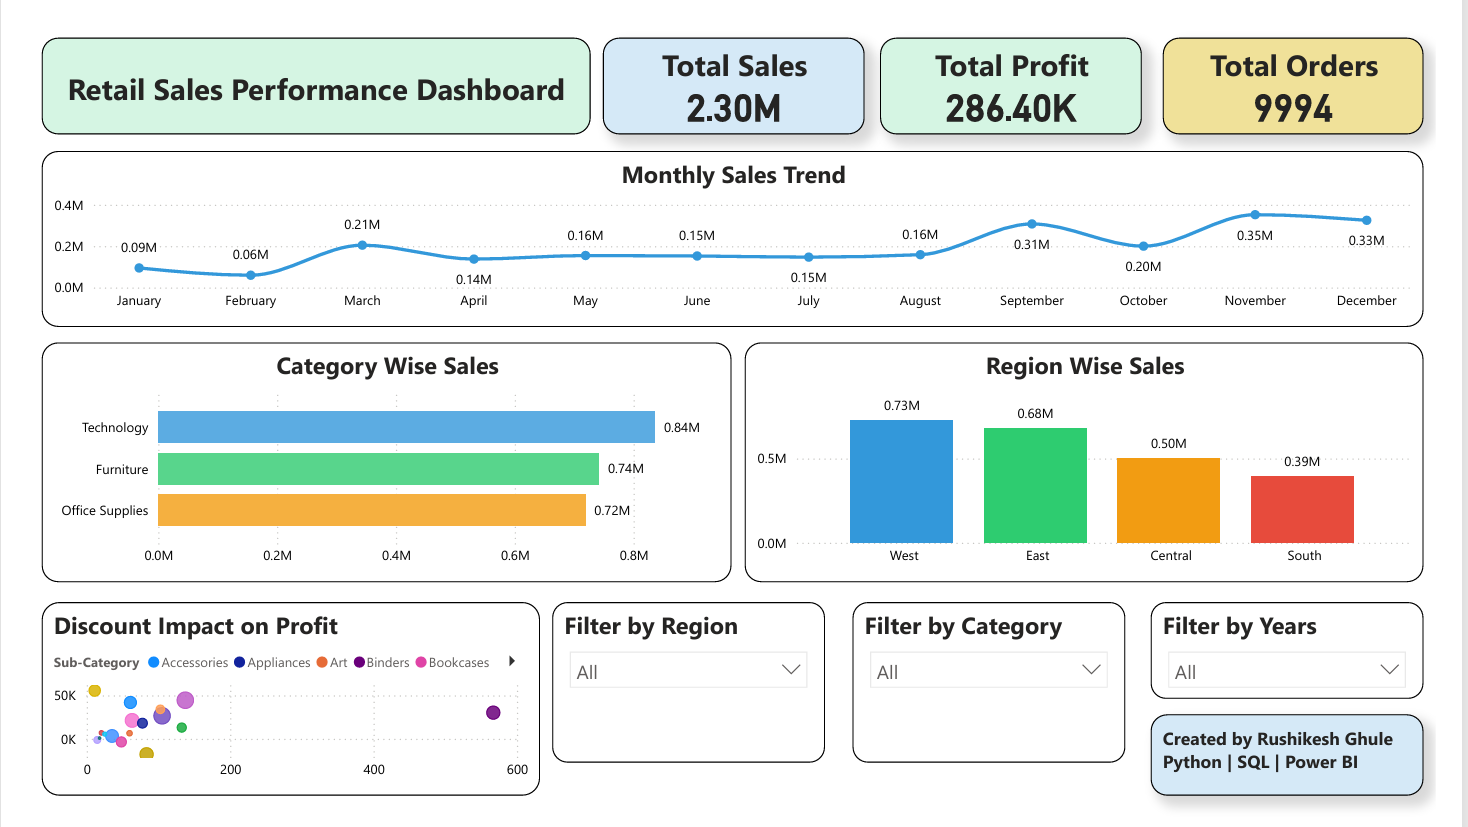

What the dashboard file says about the page in this screenshot:
{"tool":"powerbi","page":{"name":"Page 1","canvas":[1280,720],"ordinal":0},"visuals":[{"type":"card","title":"Total Sales","fields":{"Values":["Sum(superstore.Sales)"]},"box":[523.4,12.2,237.2,88],"z":0},{"type":"card","title":"Total Profit","fields":{"Values":["Sum(superstore.Profit)"]},"box":[775.3,12.2,237.2,88],"z":1000},{"type":"card","title":"Total Orders","fields":{"Values":["CountNonNull(superstore.Order ID)"]},"box":[1032.1,12.2,237.2,88],"z":2000},{"type":"lineChart","title":"Monthly Sales Trend","fields":{"Category":["superstore.Order Date.Variation.Date Hierarchy.Month"],"Y":["Sum(superstore.Sales)"]},"box":[13.5,114.9,1255.8,160.2],"z":3000},{"type":"clusteredBarChart","title":"Category Wise Sales","fields":{"Category":["superstore.Category"],"Y":["Sum(superstore.Sales)"]},"box":[13.5,288.6,626.1,218.9],"z":4000},{"type":"clusteredColumnChart","title":"Region Wise Sales","fields":{"Category":["superstore.Region"],"Y":["Sum(superstore.Sales)"]},"box":[651.8,288.6,617.5,218.9],"z":5000},{"type":"slicer","title":"Filter by Region","fields":{"Values":["superstore.Region"]},"box":[476.9,524.6,248.2,146.7],"z":6000},{"type":"slicer","title":"Filter by Years","fields":{"Values":["superstore.Order Date.Variation.Date Hierarchy.Year"]},"box":[1021.1,524.6,248.2,88],"z":7000},{"type":"slicer","title":"Filter by Category","fields":{"Values":["superstore.Category"]},"box":[749.6,524.6,248.2,146.7],"z":8000},{"type":"scatterChart","title":"Discount Impact on Profit","fields":{"Y":["Sum(superstore.Profit)"],"Size":["Sum(superstore.Sales)"],"Series":["superstore.Sub-Category"],"X":["Sum(superstore.Discount)"]},"box":[13.5,524.6,452.4,176.1],"z":9000},{"type":"textbox","box":[13.5,12.2,498.9,88],"z":10000},{"type":"textbox","box":[1021.1,627.3,248.2,73.4],"z":10001}]}

Visuals, with their boxes in screenshot pixels (x1, y1, x2, y2), scaled from the page's 1280x720 canvas onto the 1468x827 screenshot:
"Total Sales" card: rect(600, 14, 872, 115)
"Total Profit" card: rect(889, 14, 1161, 115)
"Total Orders" card: rect(1184, 14, 1456, 115)
"Monthly Sales Trend" lineChart: rect(15, 132, 1456, 316)
"Category Wise Sales" clusteredBarChart: rect(15, 331, 734, 583)
"Region Wise Sales" clusteredColumnChart: rect(748, 331, 1456, 583)
"Filter by Region" slicer: rect(547, 603, 832, 771)
"Filter by Years" slicer: rect(1171, 603, 1456, 704)
"Filter by Category" slicer: rect(860, 603, 1144, 771)
"Discount Impact on Profit" scatterChart: rect(15, 603, 534, 805)
textbox: rect(15, 14, 588, 115)
textbox: rect(1171, 721, 1456, 805)
